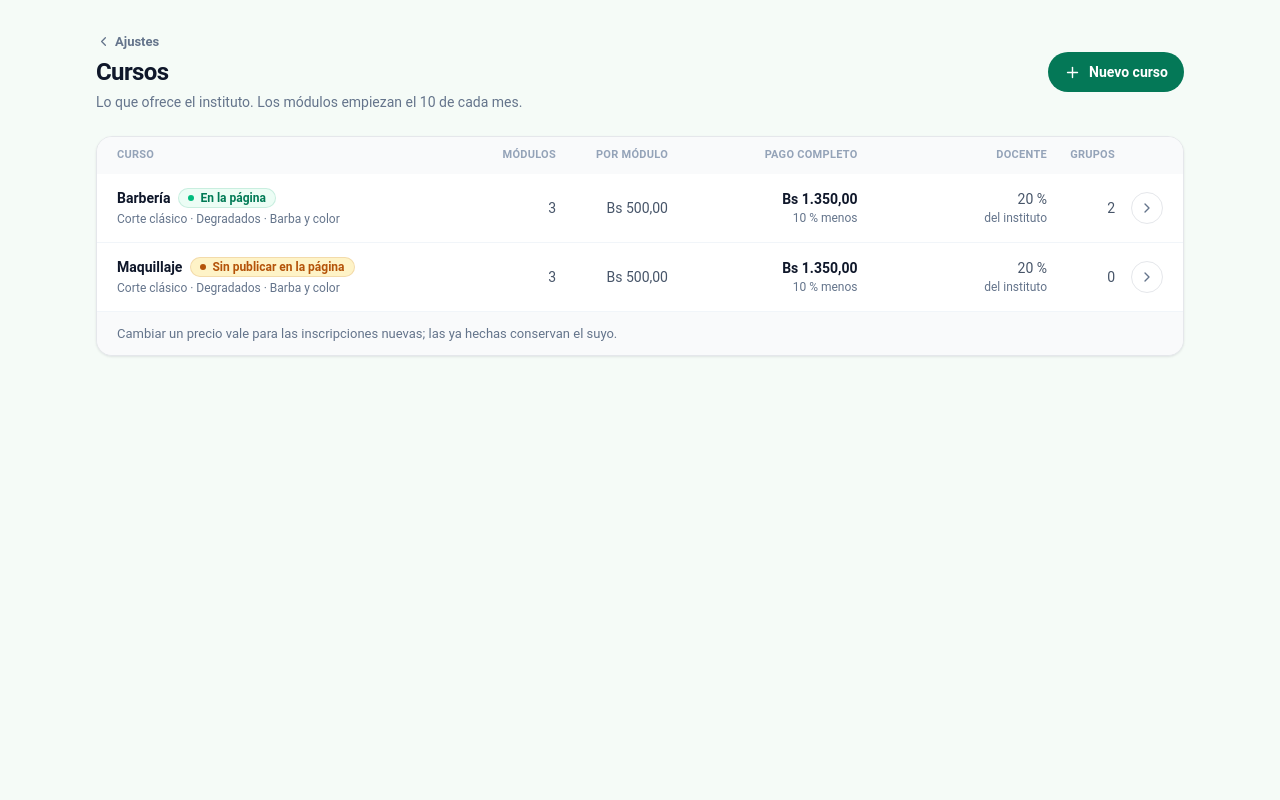
Test: C2 · «Abrir el primer grupo» al crear un curso › editar un curso no ofrece abrir grupo: sólo el curso nuevo
Click the button with aria-label "Editar Barbería": (640, 208) top-left (97, 174), bottom-right (1183, 242)
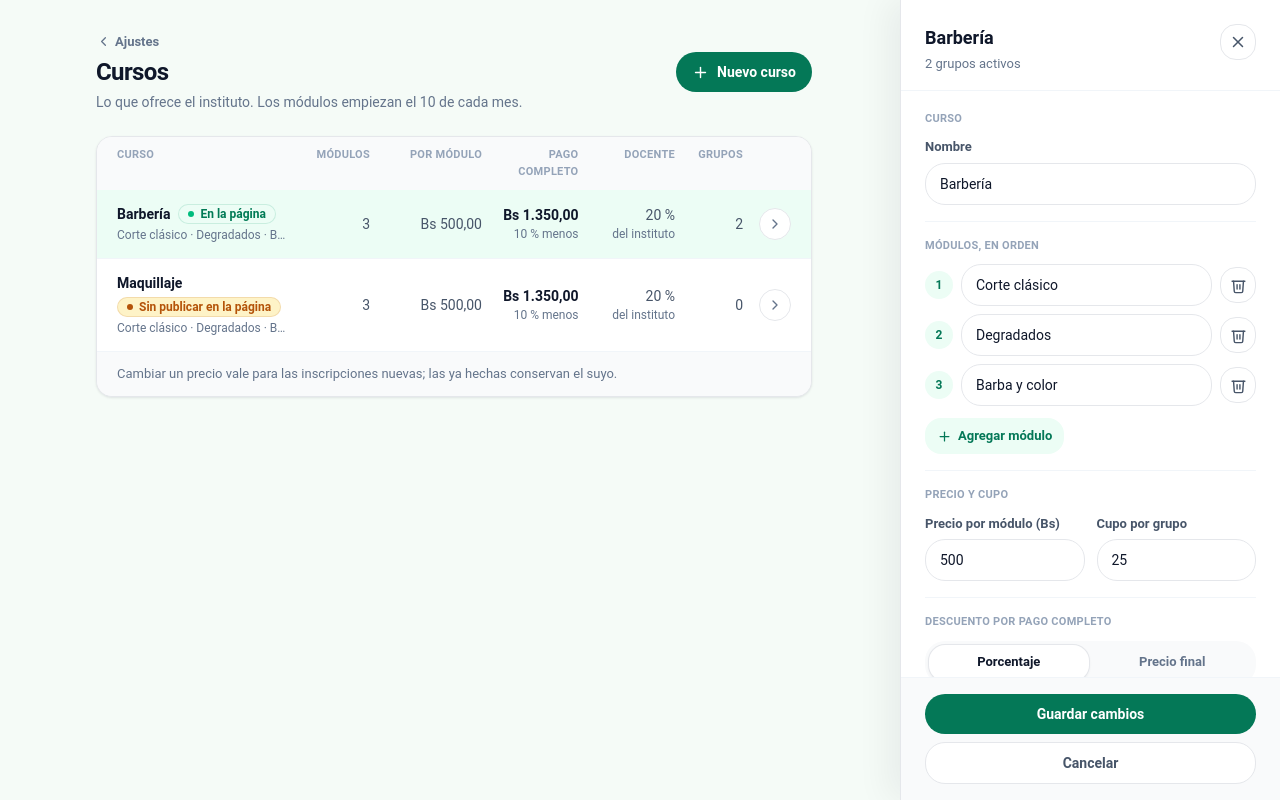
Replace the text in the field labelled "Nombre" with "Barbería pro": (1090, 184) top-left (925, 162), bottom-right (1256, 204)
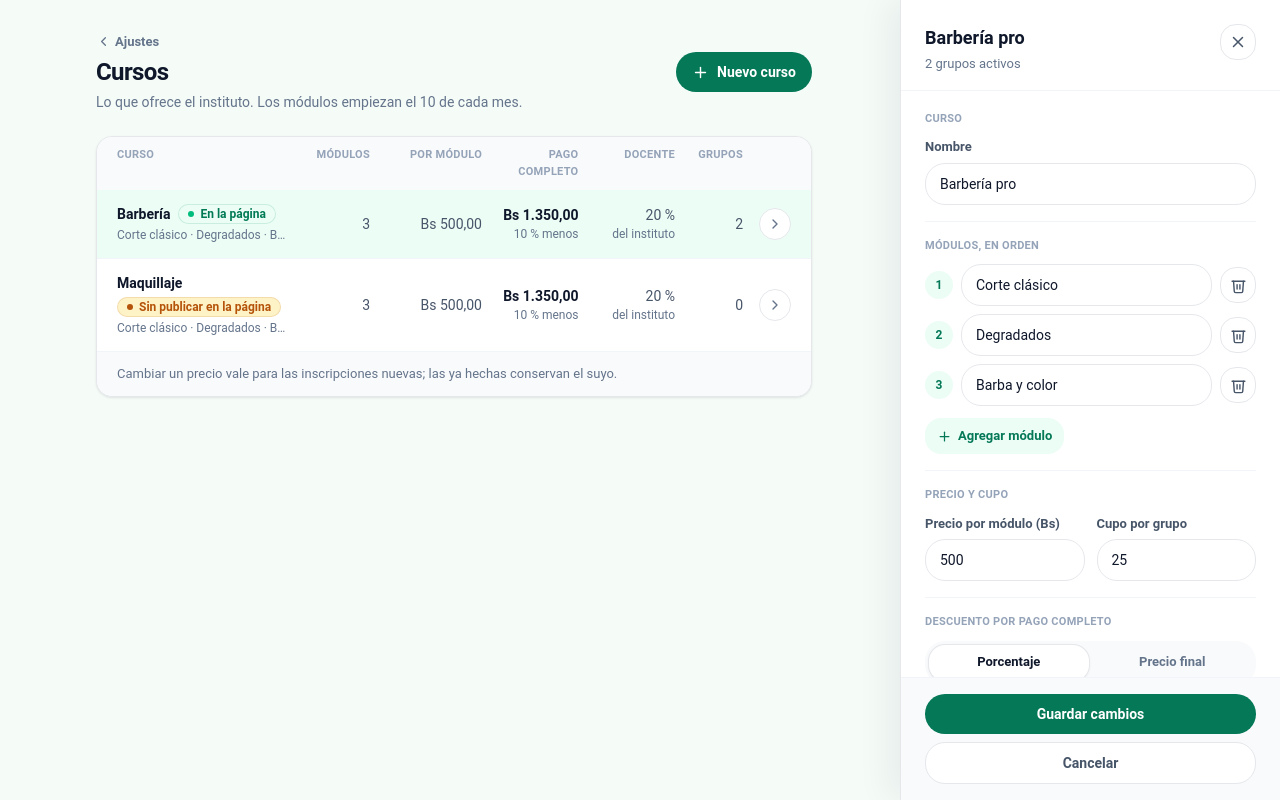
Click the button "Guardar cambios": (1090, 714) top-left (925, 694), bottom-right (1256, 734)
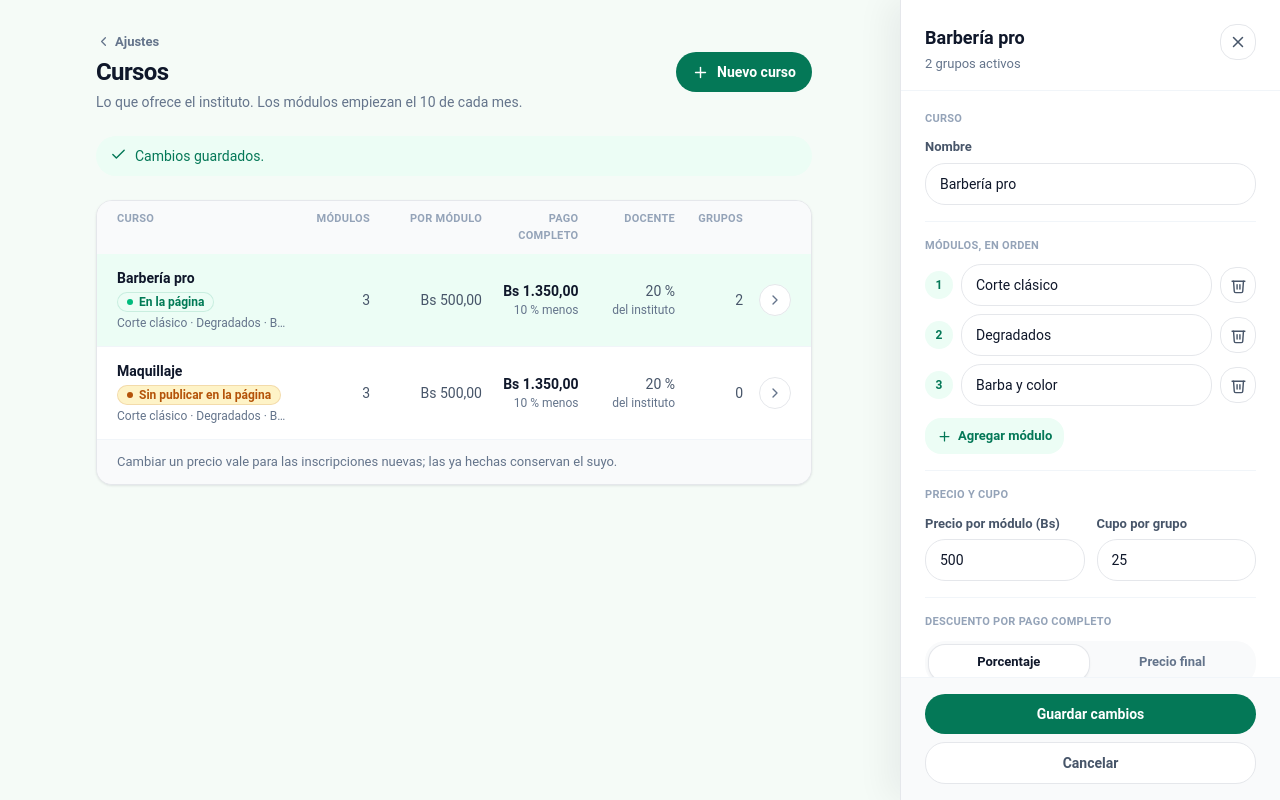
Expected: the text "Cambios guardados." is shown, top-left (135, 146), bottom-right (264, 166)
